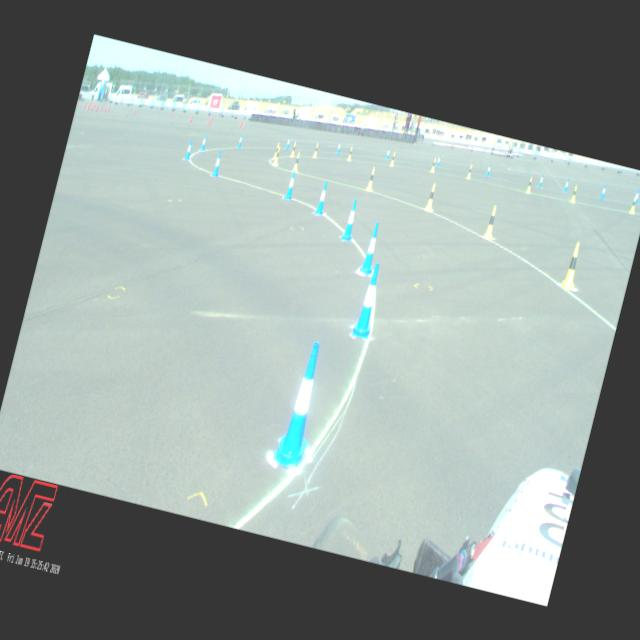blue_cone: (270, 338, 334, 472), (349, 260, 386, 340), (358, 220, 384, 276), (340, 198, 360, 242), (313, 179, 330, 216), (283, 169, 299, 201), (211, 150, 223, 178), (184, 138, 194, 161), (200, 134, 208, 151), (236, 133, 244, 148), (600, 184, 606, 200), (484, 164, 492, 176), (634, 189, 640, 205), (563, 178, 569, 192), (285, 136, 291, 150), (538, 174, 544, 188), (336, 141, 341, 154), (436, 154, 440, 168), (386, 147, 390, 159)
yellow_cone: (560, 241, 584, 291), (483, 204, 499, 240), (424, 182, 437, 211), (364, 167, 376, 190), (292, 151, 302, 172), (272, 146, 282, 166), (628, 194, 638, 213), (569, 184, 578, 202), (526, 175, 534, 192), (312, 142, 320, 158), (290, 141, 298, 157), (272, 142, 279, 160), (466, 164, 473, 178), (389, 152, 396, 166), (346, 146, 353, 160), (429, 158, 436, 172)
